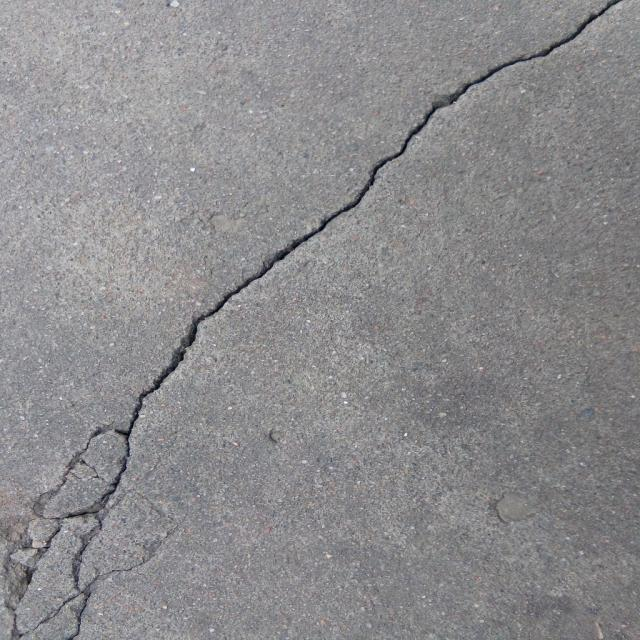cracks: (60, 236, 259, 469), (346, 26, 630, 124), (9, 459, 134, 640), (324, 134, 410, 250), (249, 207, 335, 279)
